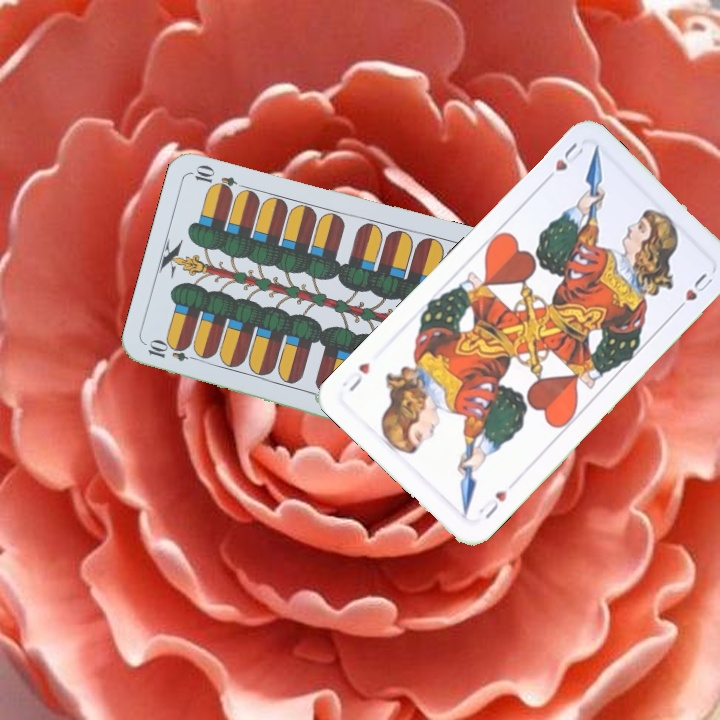E10: (144, 338, 203, 365)
HU: (539, 137, 587, 186), (474, 486, 510, 522)
